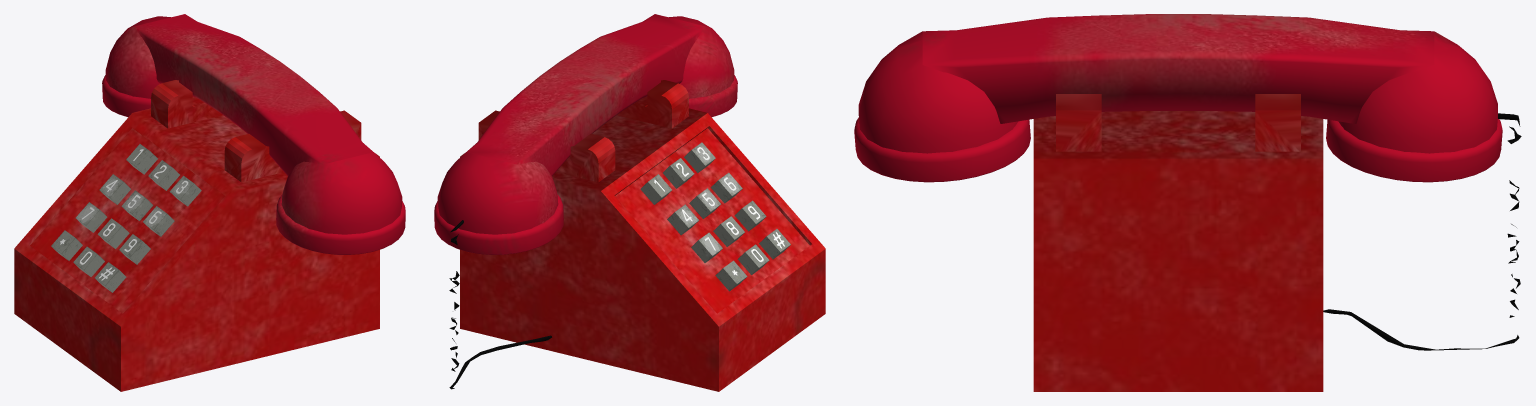
Rendered from desk_phone.glb.
The picture shows the model from 3 angles, left to right: view 1: azimuth 30°, elevation 25°; view 2: azimuth 150°, elevation 25°; view 3: azimuth 270°, elevation 25°; orthographic projection. The views are drawn at different scales.
Parts seen in each view (by area): view 1: desk_phone2; view 2: desk_phone2; view 3: desk_phone2.
Boxes of the visible parts, left/top/right/bottom form: desk_phone2: left=14, top=14, right=405, bottom=391; desk_phone2: left=434, top=14, right=825, bottom=391; desk_phone2: left=854, top=14, right=1521, bottom=391.
Bounding box in the file's own units: 0.1778 × 0.1517 × 0.2926.
Materials: 4 (4 with a texture image).
